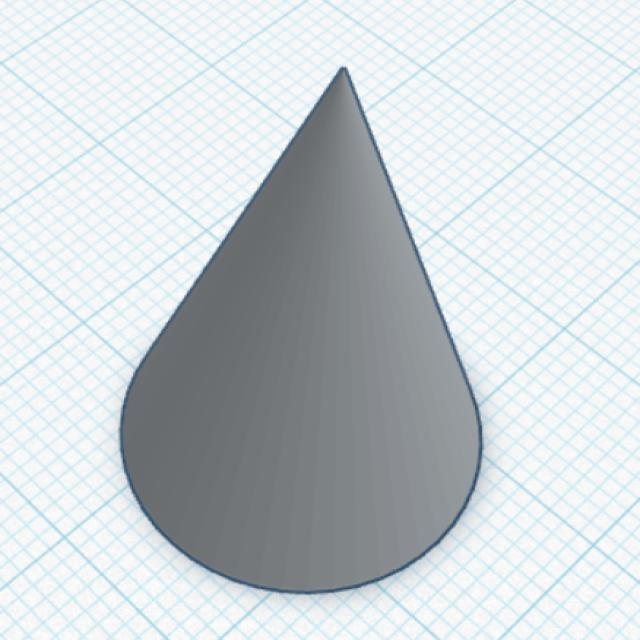cone: (115, 61, 488, 600)
